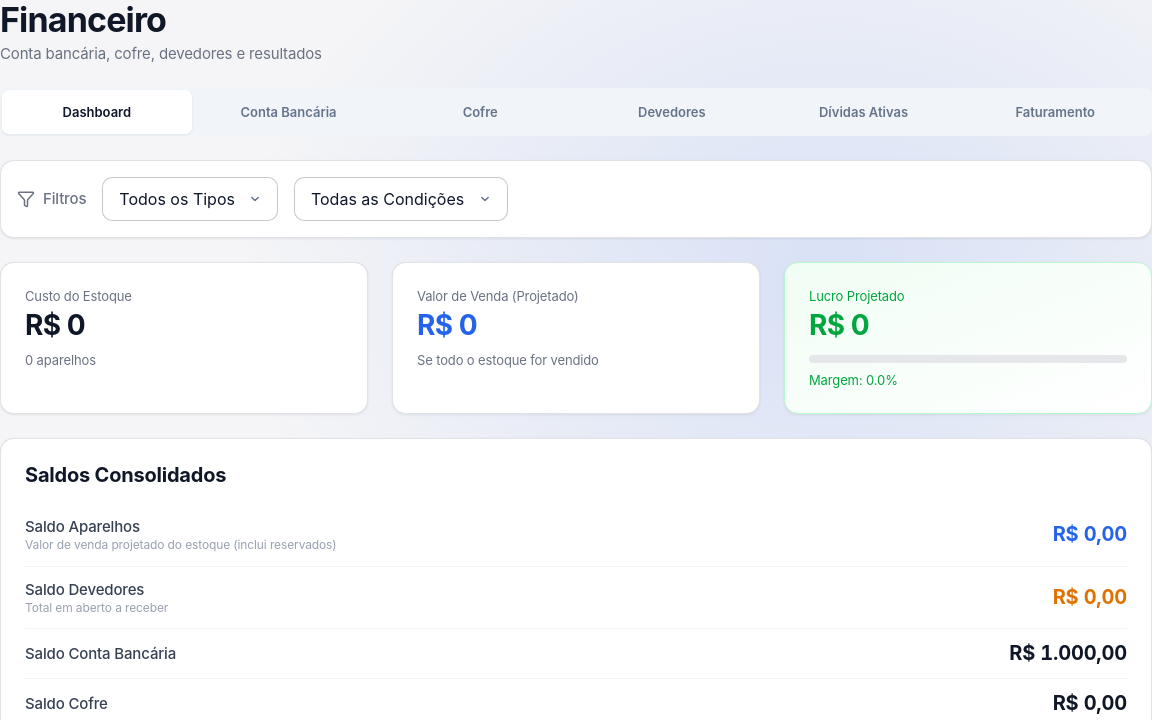
Scenario: Finance page resilience › keeps financial movement cards through iPad portrait widths
The image size is (1152, 720).
Click the button with test id "finance-tab-bank". click: (289, 112)
box: [194, 90, 383, 134]
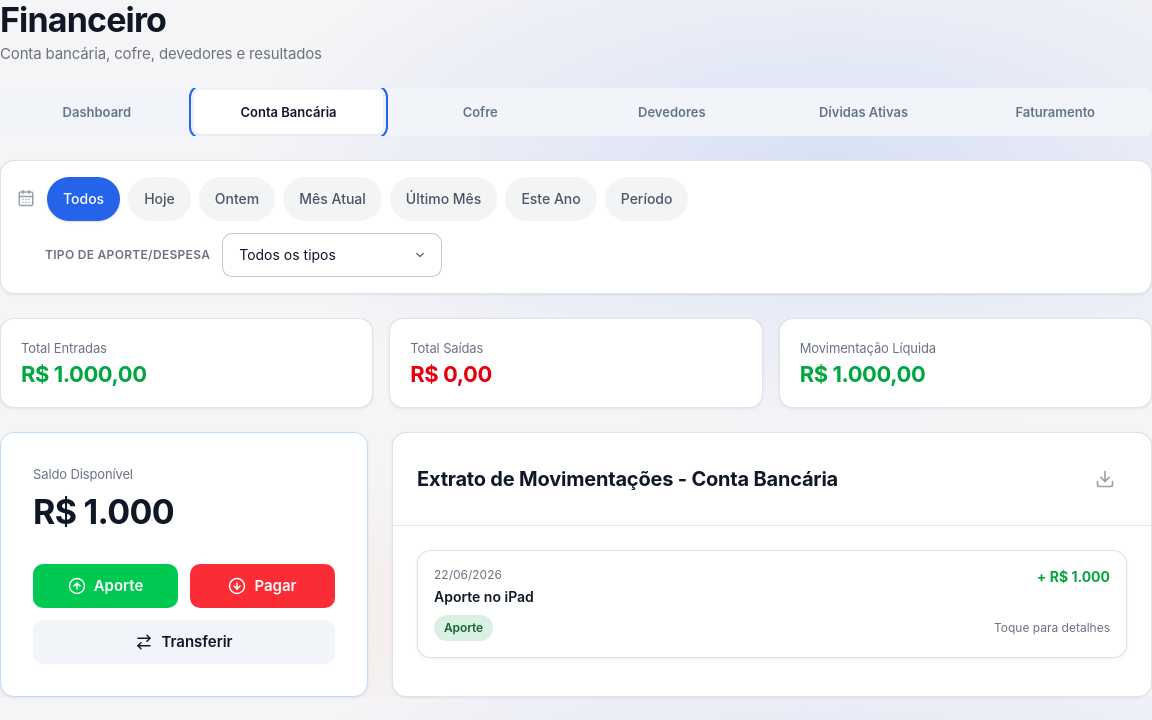
Check: the text "Toque para detalhes" is shown, box [994, 620, 1110, 636]
